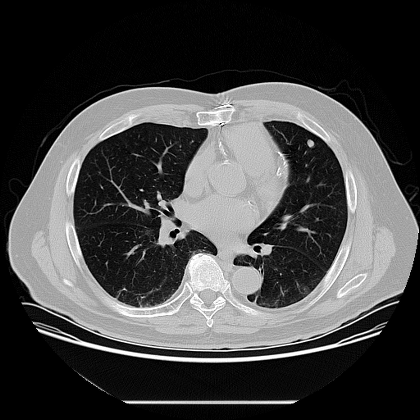nodule: (306, 139, 314, 147)
